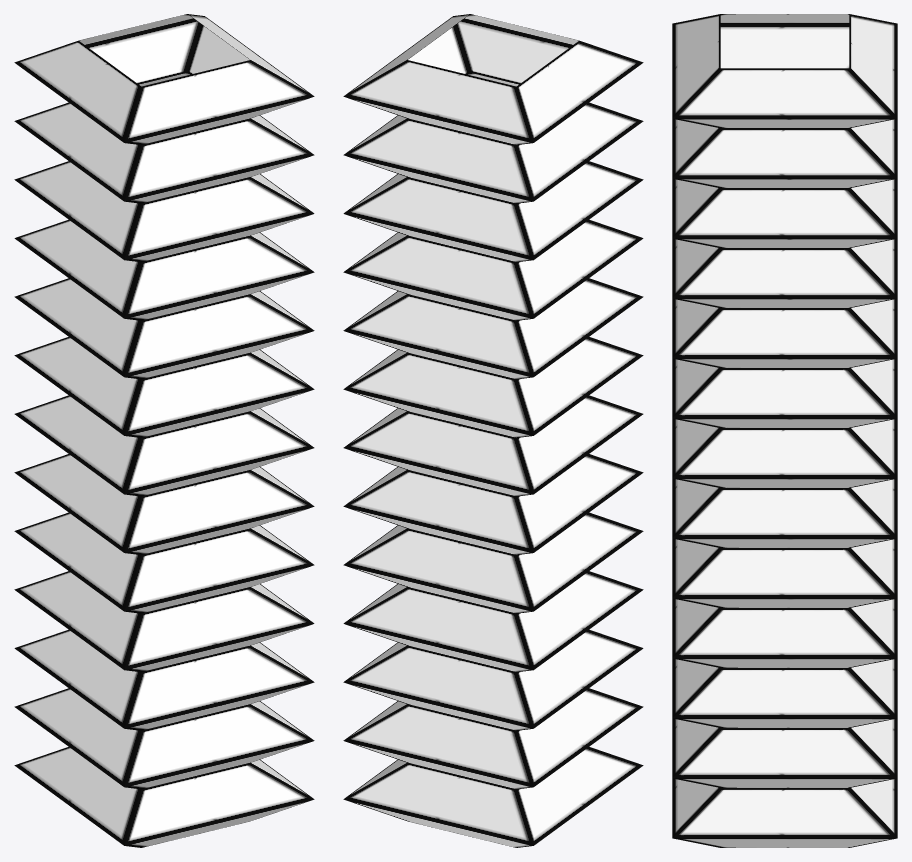
File: Spring01.fbx
3 views of the same model, side by side, from view 1: azimuth 30°, elevation 25°; view 2: azimuth 150°, elevation 25°; view 3: azimuth 270°, elevation 25° (orthographic). The views are drawn at different scales.
Parts seen in each view (by area): view 1: pCube26; view 2: pCube26; view 3: pCube26.
Part boxes in pixels (box(x1,y1,x2,y2)): pCube26: box(14, 14, 314, 847); pCube26: box(343, 14, 643, 847); pCube26: box(672, 14, 897, 847).
Size of the model in its own units: 0.0916 by 0.3497 by 0.0916.
Materials: 1 (1 with a texture image).
